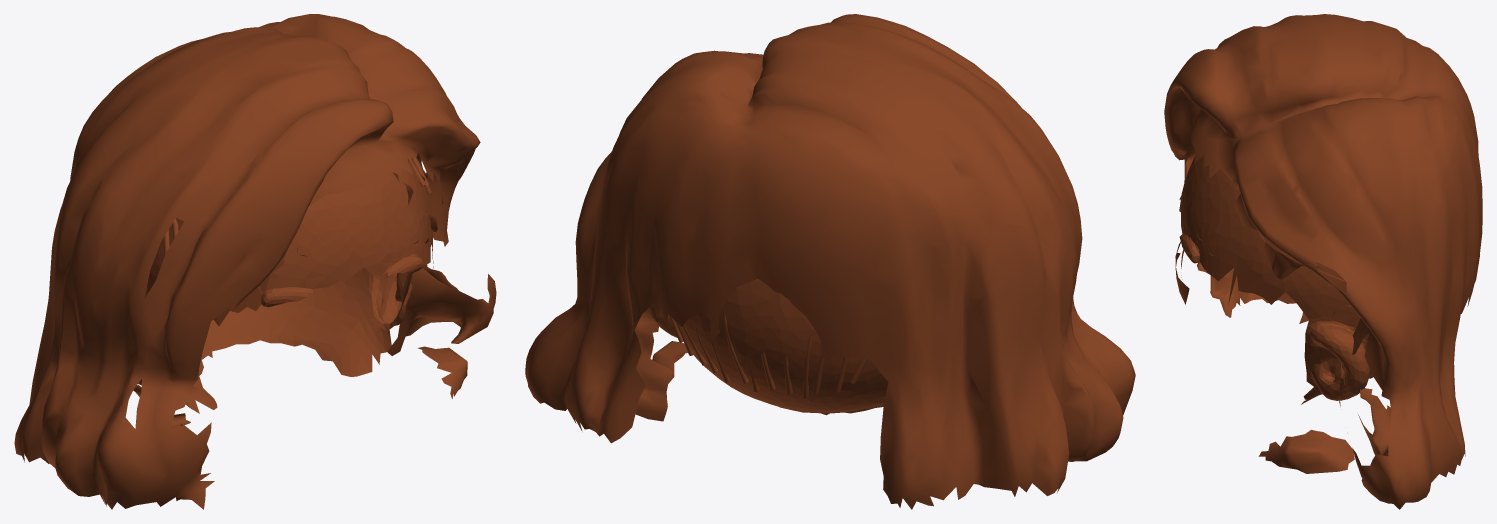
File: long-wavy.glb
3 views of the same model, side by side, from view 1: azimuth 30°, elevation 25°; view 2: azimuth 150°, elevation 25°; view 3: azimuth 270°, elevation 25° (orthographic). The views are drawn at different scales.
Parts seen in each view (by area): view 1: Hair, HairScalp; view 2: Hair, HairScalp, HairPulledRootStrands; view 3: Hair, HairScalp.
Boxes of the visible parts, x1=… form: Hair: x1=14, y1=14, x2=496, y2=509; HairScalp: x1=138, y1=158, x2=433, y2=413; Hair: x1=525, y1=14, x2=1135, y2=509; HairScalp: x1=648, y1=279, x2=888, y2=415; HairPulledRootStrands: x1=669, y1=289, x2=867, y2=398; Hair: x1=1164, y1=14, x2=1482, y2=509; HairScalp: x1=1179, y1=155, x2=1477, y2=404.
Size of the model in its own units: 0.815 by 0.5684 by 0.4615.
